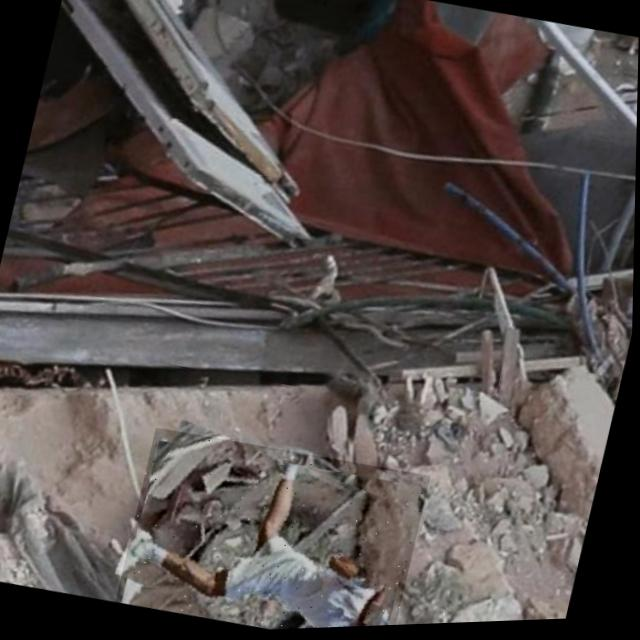Person in Rubble: (116, 420, 432, 636)
